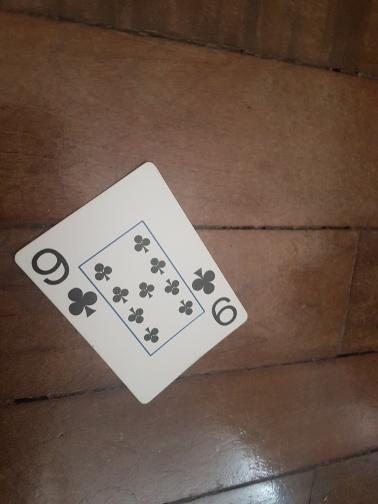nine: (15, 160, 250, 404)
